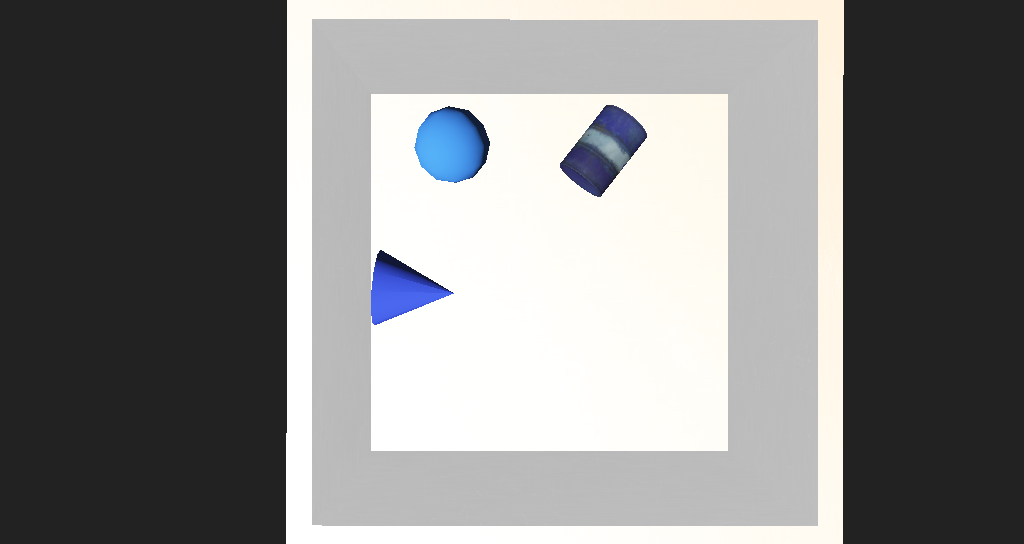cone: (515, 167, 589, 224)
cylinder: (350, 255, 431, 308)
sphere: (394, 174, 455, 217)
